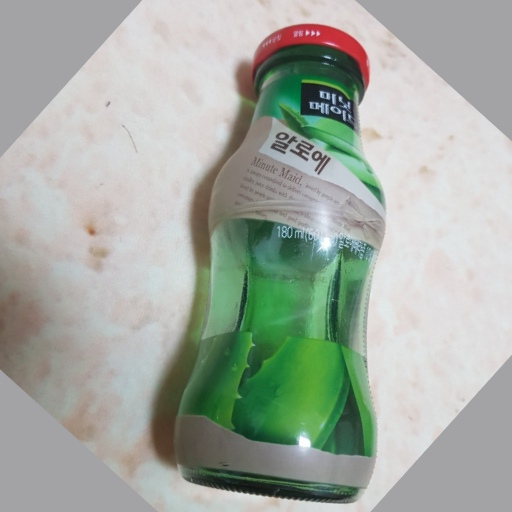Glass_4: (173, 24, 387, 503)
